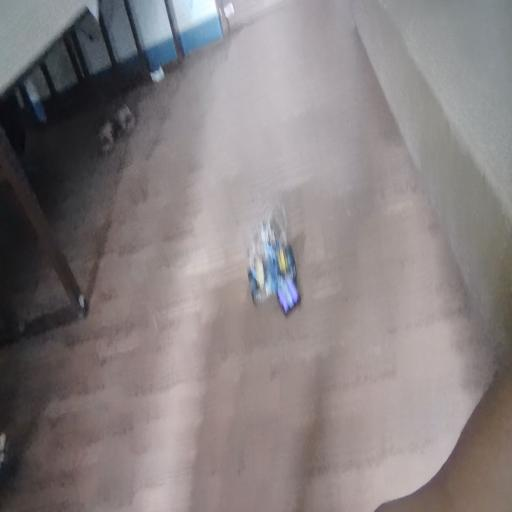car: (236, 208, 330, 327)
